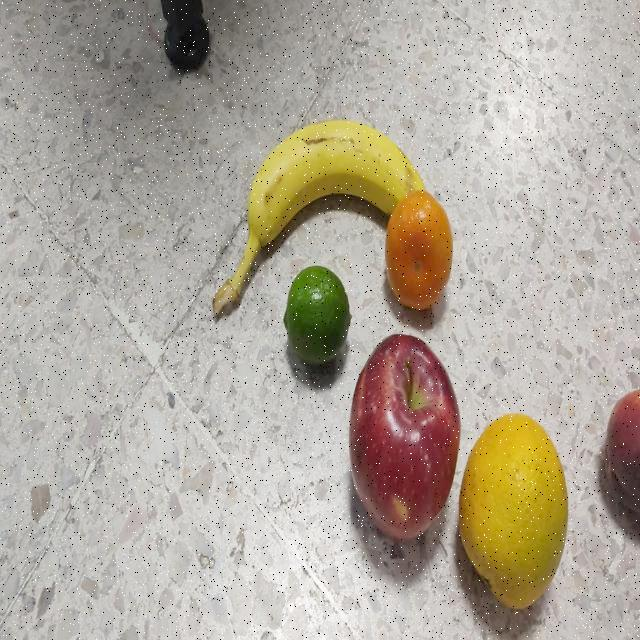Apel Merah: (347, 326, 461, 552)
Jeruk: (460, 413, 570, 611)
Jeruk Mandarin: (385, 190, 453, 314)
Lemon: (284, 265, 352, 368)
Persik: (605, 389, 640, 518)
Pisang: (209, 114, 431, 320)
